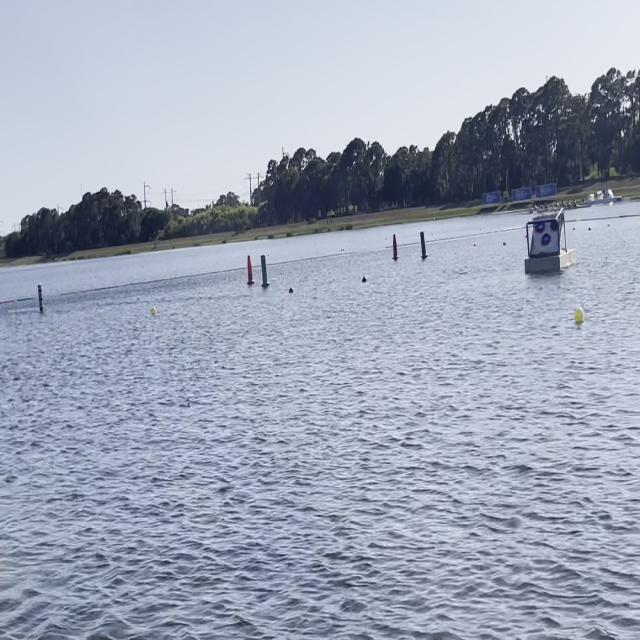buoy: (574, 306, 584, 324), (150, 302, 157, 317), (361, 274, 367, 282), (289, 286, 293, 294)
